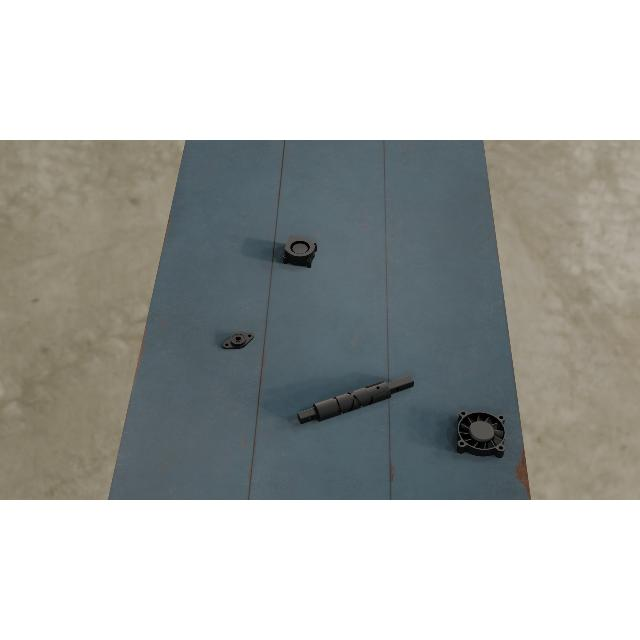Pieza1: (296, 369, 416, 431)
Pieza2: (219, 326, 257, 354)
Pieza3: (282, 235, 318, 269)
Pieza4: (456, 409, 506, 459)
